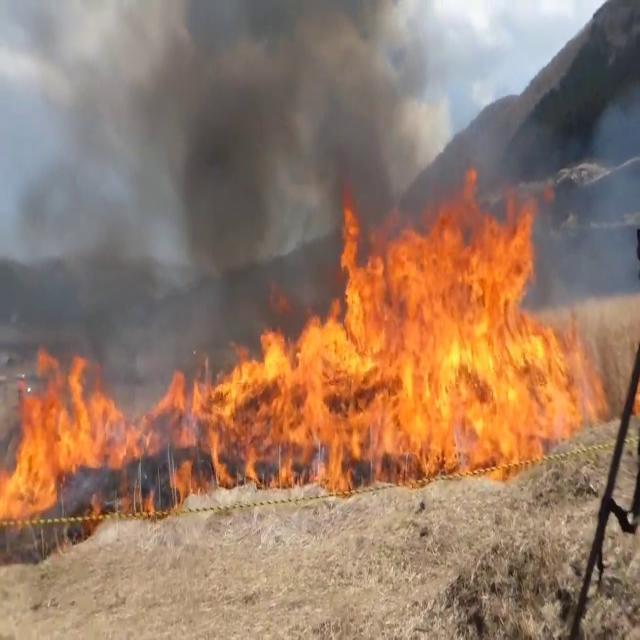Fire: (302, 185, 607, 495), (0, 316, 313, 520)
Smoke: (2, 0, 426, 324)
